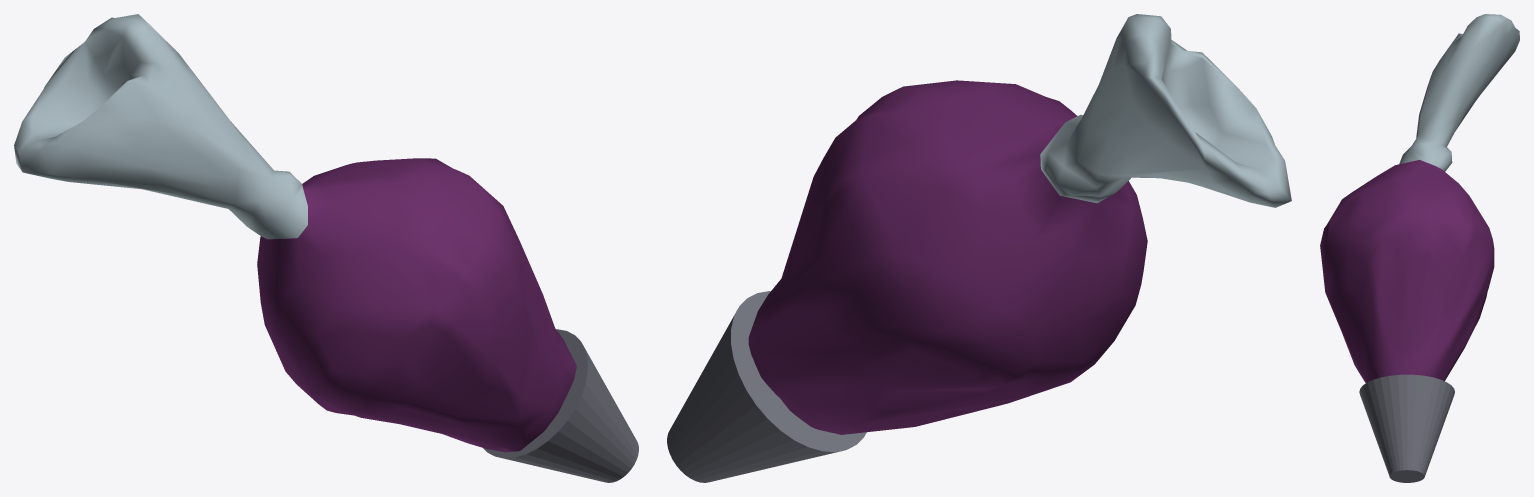
File: fruit_jam_infill_pickup.fbx
3 renders of one model, left to right at view 1: azimuth 30°, elevation 25°; view 2: azimuth 150°, elevation 25°; view 3: azimuth 270°, elevation 25°, orthographic. The views are drawn at different scales.
Visible parts, largest first — view 1: PM3D_Cone3D1; view 2: PM3D_Cone3D1; view 3: PM3D_Cone3D1.
Part boxes in pixels (bbox=[...]): PM3D_Cone3D1: bbox=[14, 14, 638, 482]; PM3D_Cone3D1: bbox=[667, 14, 1291, 482]; PM3D_Cone3D1: bbox=[1320, 14, 1519, 482].
Bounding box in the file's own units: 146 × 131 × 70.01.
